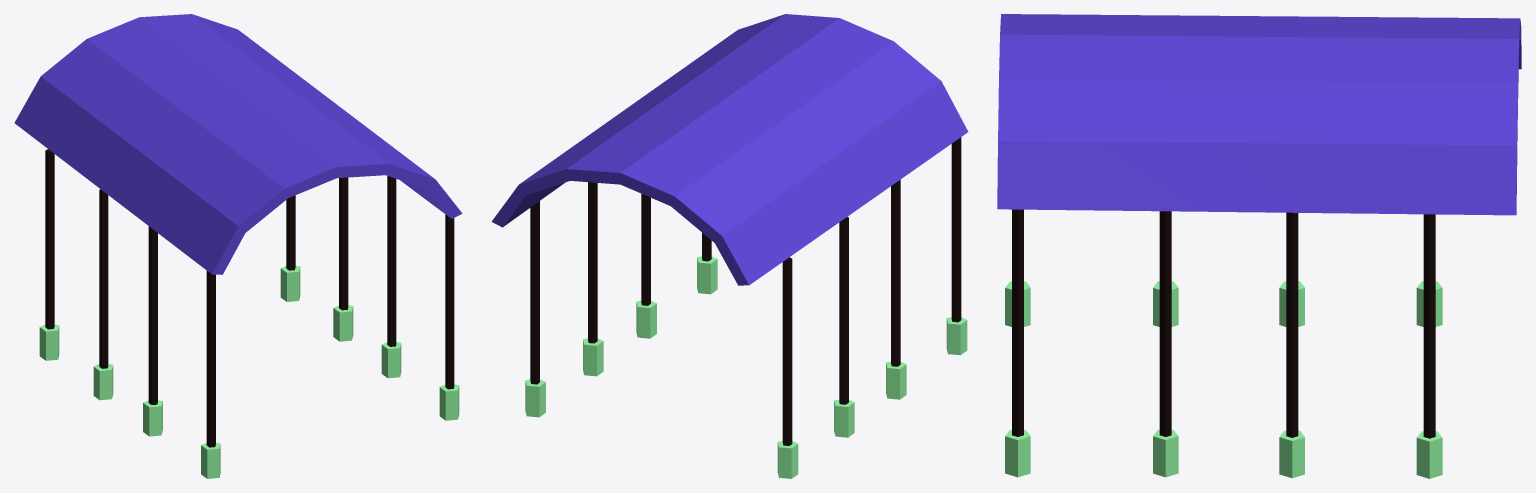
The model's file is Pagoda.FBX.
3 views of the same model, side by side, from view 1: azimuth 30°, elevation 25°; view 2: azimuth 150°, elevation 25°; view 3: azimuth 270°, elevation 25° (orthographic). The views are drawn at different scales.
Visible parts, largest first — view 1: Pagoda; view 2: Pagoda; view 3: Pagoda.
Boxes of the visible parts, box(x1,y1,x2,y2) form: Pagoda: box(14, 14, 462, 478); Pagoda: box(491, 14, 968, 478); Pagoda: box(997, 14, 1521, 478).
Bounding box in the file's own units: 16.81 × 17.72 × 23.24.
